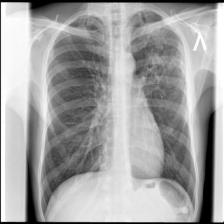tuberculosis: (34, 2, 202, 224)
